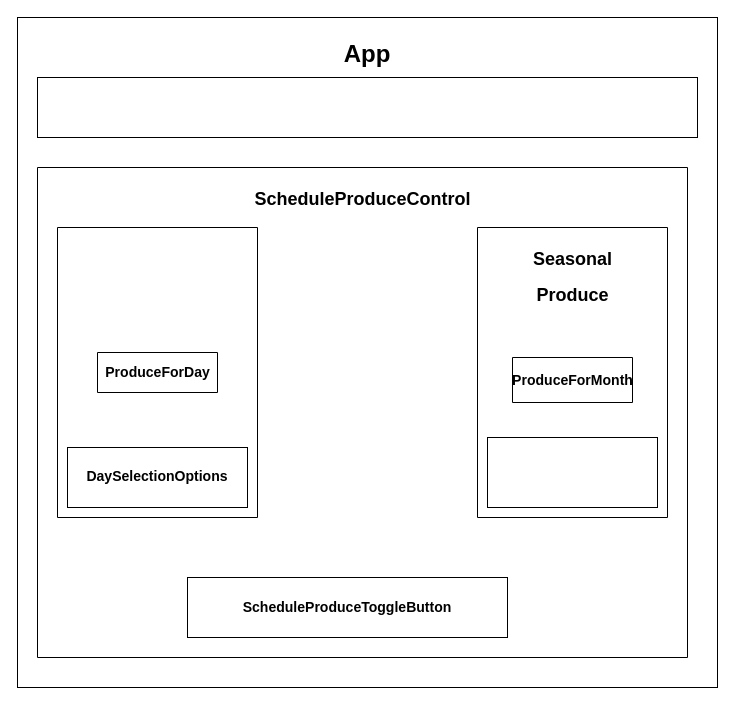
The diagram is 735 pixels wide and 705 high, and some of its shapes have lost their labels. Here are the shapes that lost their labels. From the top down, the box of each, then its label:
(36, 76, 698, 138): Header
(56, 226, 258, 518): MarketSchedule
(486, 436, 658, 508): MonthSelectionOptions
